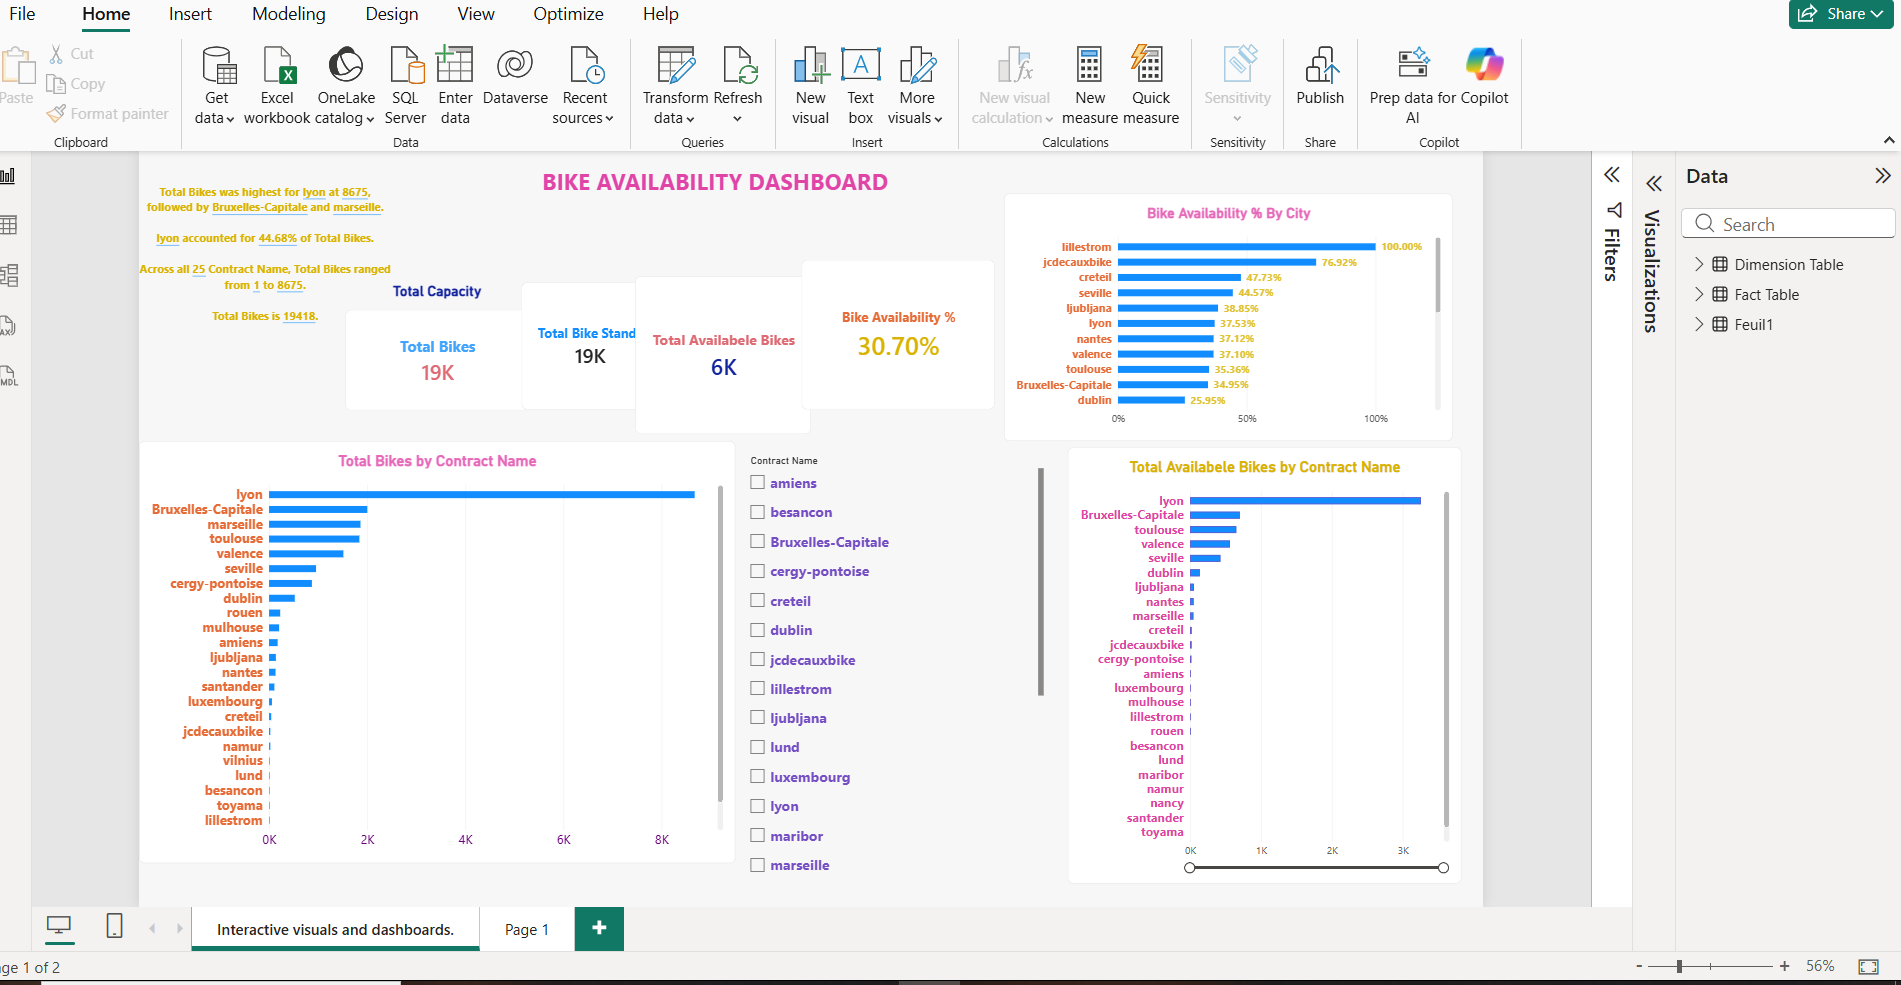

The page's visual inventory and layout, read from the dashboard file:
{"tool":"powerbi","page":{"name":"Interactive visuals and dashboards.","canvas":[1920,1080],"ordinal":0},"visuals":[{"type":"cardVisual","title":"Total Capacity","fields":{"Data":["Fact Table.Total Bikes"]},"box":[294.6,187.5,262.5,183.9],"z":0},{"type":"cardVisual","fields":{"Data":["Fact Table.Total Bike Stands"]},"box":[546.4,187.5,194.6,182.1],"z":1},{"type":"cardVisual","fields":{"Data":["Fact Table.Total Availabele Bikes"]},"box":[708.9,178.6,251.8,226.8],"z":2},{"type":"cardVisual","fields":{"Data":["Fact Table.Bike Availability %"]},"box":[946.4,155.4,276.8,214.3],"z":3},{"type":"clusteredBarChart","fields":{"Category":["Dimension Table.Contract Name"],"Y":["Fact Table.Total Bikes"]},"box":[0,414.3,851.8,603.6],"z":4},{"type":"slicer","fields":{"Values":["Dimension Table.Contract Name"]},"box":[866.1,433.9,426.1,603.1],"z":5},{"type":"clusteredBarChart","fields":{"Category":["Dimension Table.Contract Name"],"Y":["Fact Table.Total Availabele Bikes"]},"box":[1326.8,423.2,562.5,623.2],"z":6},{"type":"textbox","box":[175,21.4,1296.4,78.6],"z":8},{"type":"clusteredBarChart","title":"Bike Availability % By City","fields":{"Category":["Dimension Table.Contract Name"],"Y":["Fact Table.Bike Availability %"]},"box":[1235.7,60.7,641.1,353.6],"z":9},{"type":"textbox","box":[0,46.4,360.7,358.9],"z":10}]}

Visuals, with their boxes on the page's 1920x1080 design canvas (x1, y1, x2, y2). These are canvas units, not pixel positions in the 1901x985 screenshot, which may show the page scaled, cropped or inside an application window:
"Total Capacity" cardVisual: region(295, 188, 557, 371)
cardVisual - Fact Table.Total Bike Stands: region(546, 188, 741, 370)
cardVisual - Fact Table.Total Availabele Bikes: region(709, 179, 961, 405)
cardVisual - Fact Table.Bike Availability %: region(946, 155, 1223, 370)
clusteredBarChart - Dimension Table.Contract Name x Fact Table.Total Bikes: region(0, 414, 852, 1018)
slicer - Dimension Table.Contract Name: region(866, 434, 1292, 1037)
clusteredBarChart - Dimension Table.Contract Name x Fact Table.Total Availabele Bikes: region(1327, 423, 1889, 1046)
textbox: region(175, 21, 1471, 100)
"Bike Availability % By City" clusteredBarChart: region(1236, 61, 1877, 414)
textbox: region(0, 46, 361, 405)
